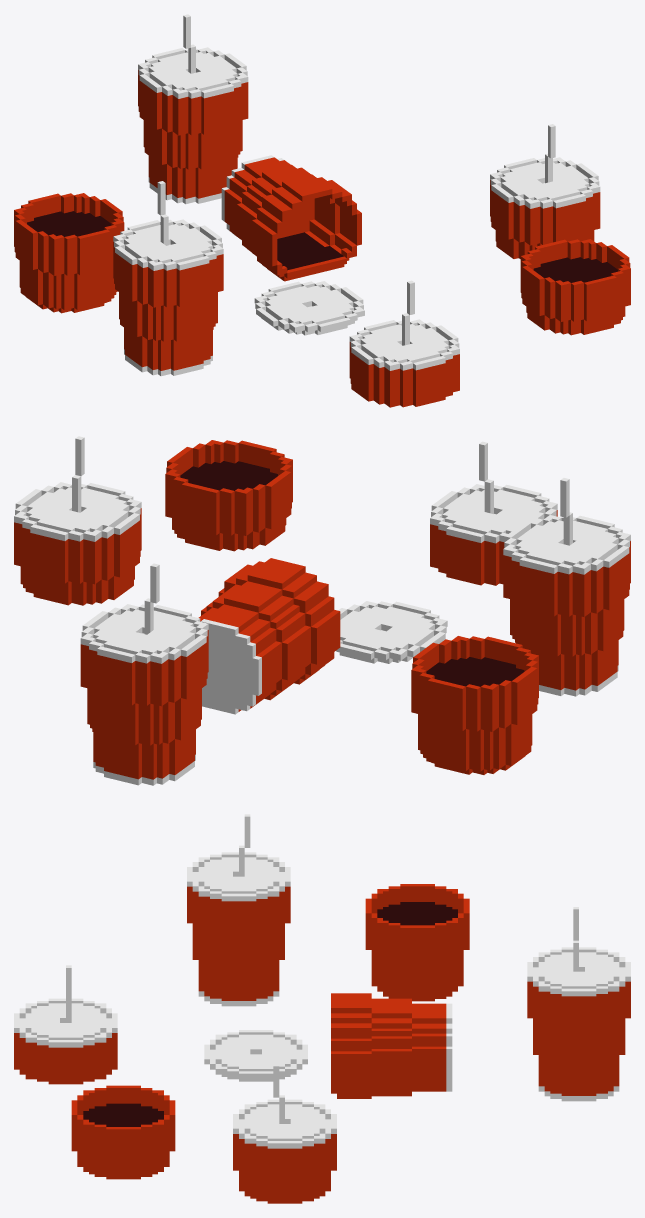
Rendered from soda_inner.obj.
3 renders of one model, top to bottom at view 1: azimuth 30°, elevation 25°; view 2: azimuth 150°, elevation 25°; view 3: azimuth 270°, elevation 25°, orthographic. The views are drawn at different scales.
Parts seen in each view (by area): view 1: soda; view 2: soda; view 3: soda.
Part boxes in pixels (<box>): soda: <box>14,14,630,407</box>; soda: <box>14,436,630,785</box>; soda: <box>14,814,630,1203</box>.
Bounding box in the file's own units: 100 × 33 × 107.
